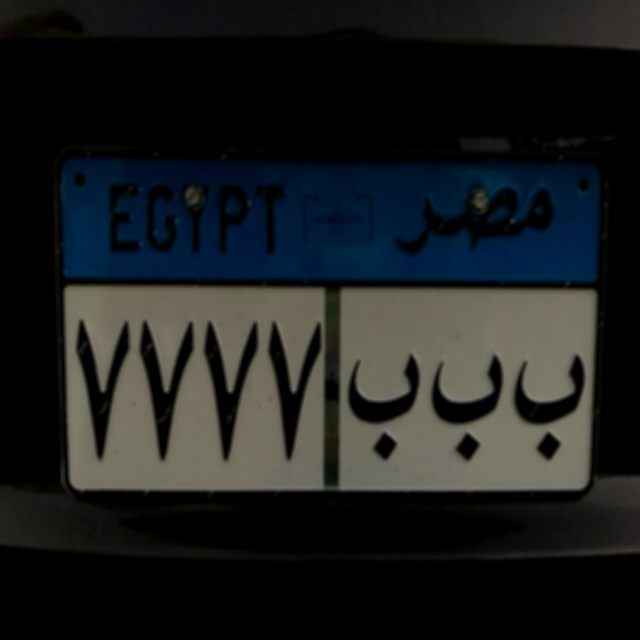License Plate: (44, 134, 617, 517)
